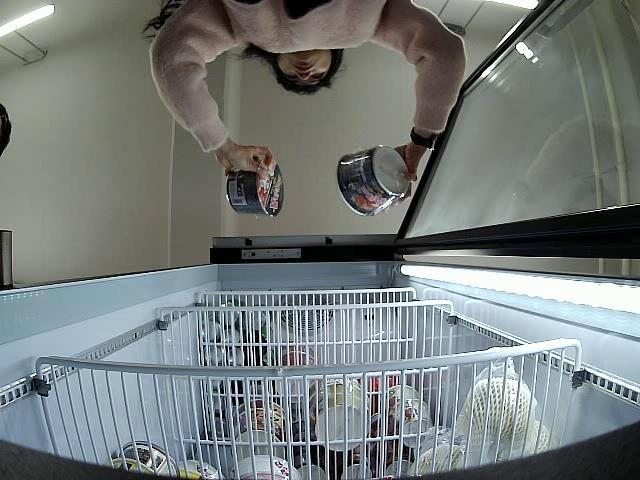07_buldak_L: (336, 144, 410, 220), (227, 154, 286, 220)
